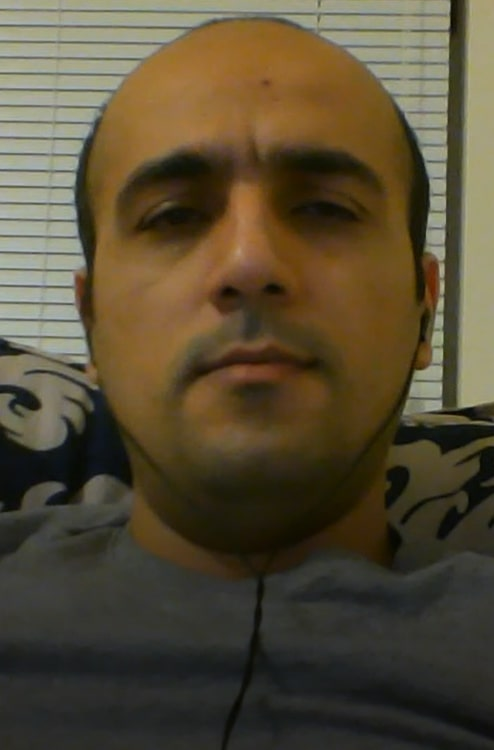Half Asleep: (120, 148, 382, 263)
